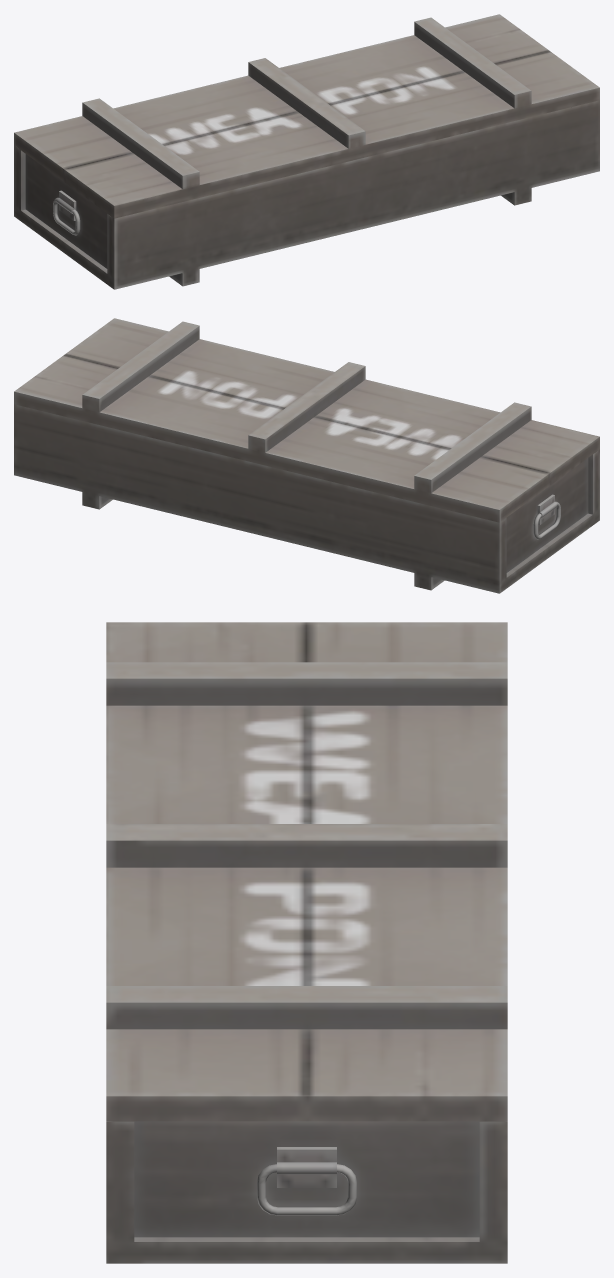
The model's file is Prfb_Weapons.fbx.
The picture shows the model from 3 angles, top to bottom: view 1: azimuth 30°, elevation 25°; view 2: azimuth 150°, elevation 25°; view 3: azimuth 270°, elevation 25°; orthographic projection. The views are drawn at different scales.
Parts seen in each view (by area): view 1: Mat_Weapons_wood; view 2: Mat_Weapons_wood; view 3: Mat_Weapons_wood.
Boxes of the visible parts, x1,y1,x2,y2 form: Mat_Weapons_wood: (14,14,599,289); Mat_Weapons_wood: (14,318,599,593); Mat_Weapons_wood: (106,622,507,1263).
Size of the model in its own units: 1.78 by 0.3862 by 0.6352.
1 material, 1 textured.
